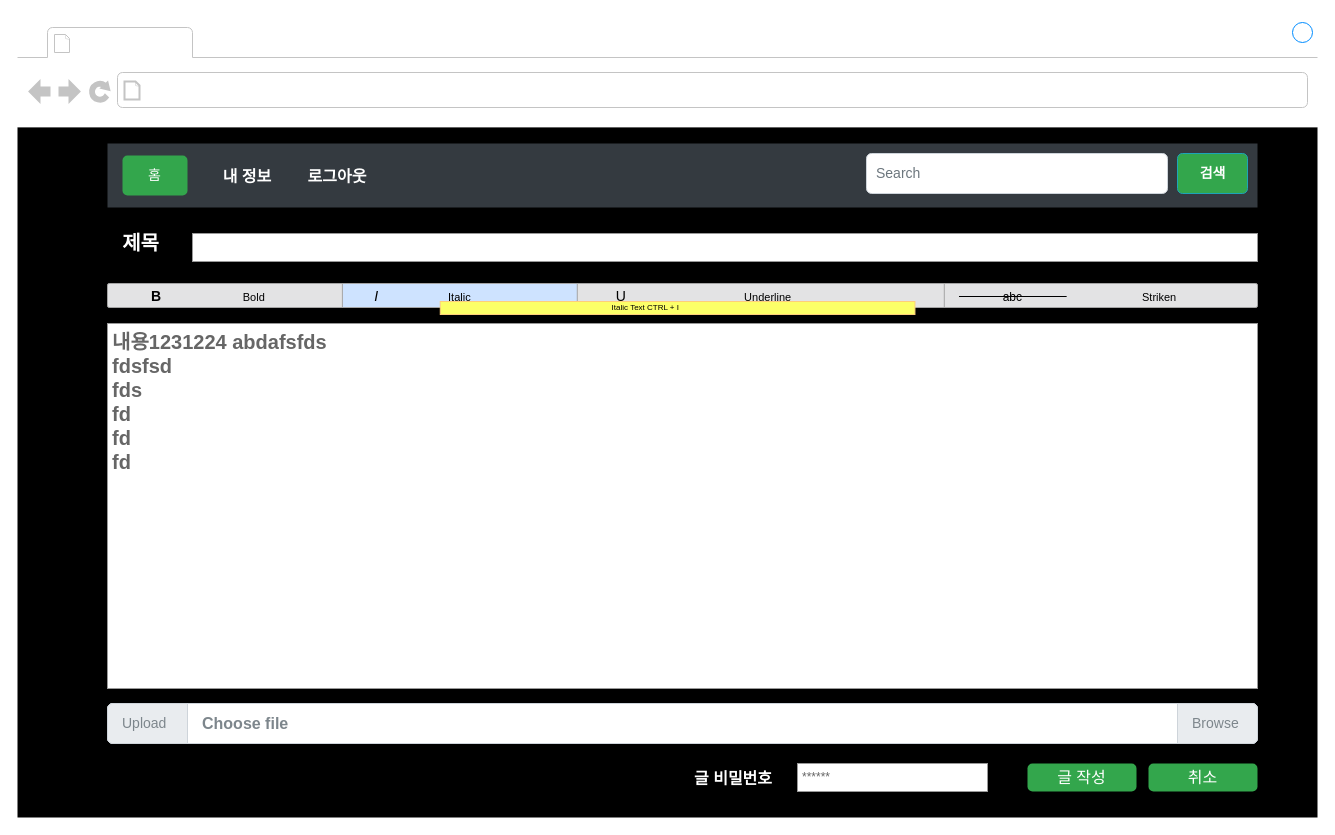
The diagram is 1335 pixels wide and 835 high, and some of its shapes have lost their labels. Each missing label, with the box of its shape:
https://www.example.com: (146, 76, 398, 104)
Page 1: (76, 28, 188, 56)
제목 텍스트: (192, 232, 1258, 262)
